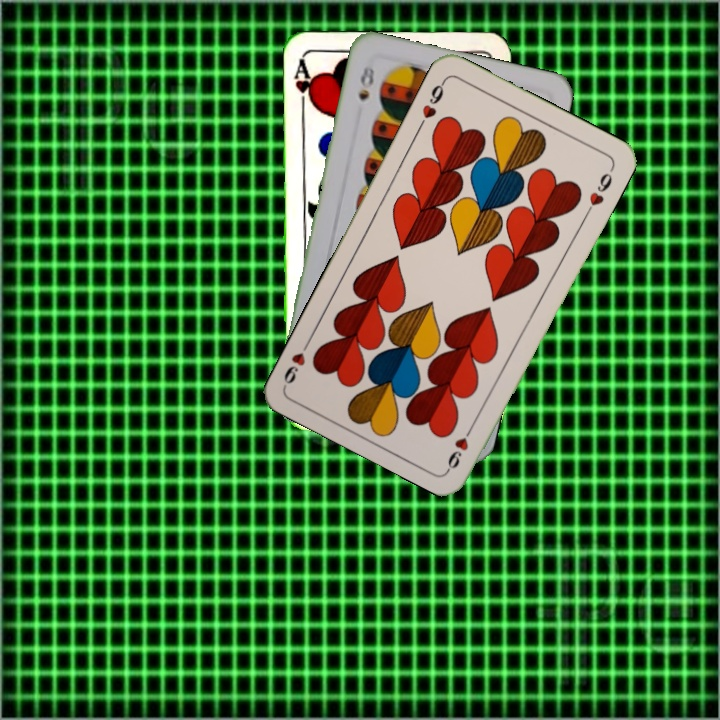H9: (443, 418, 478, 472), (415, 76, 449, 130)
HA: (290, 56, 317, 115)
S8: (354, 60, 377, 103)
